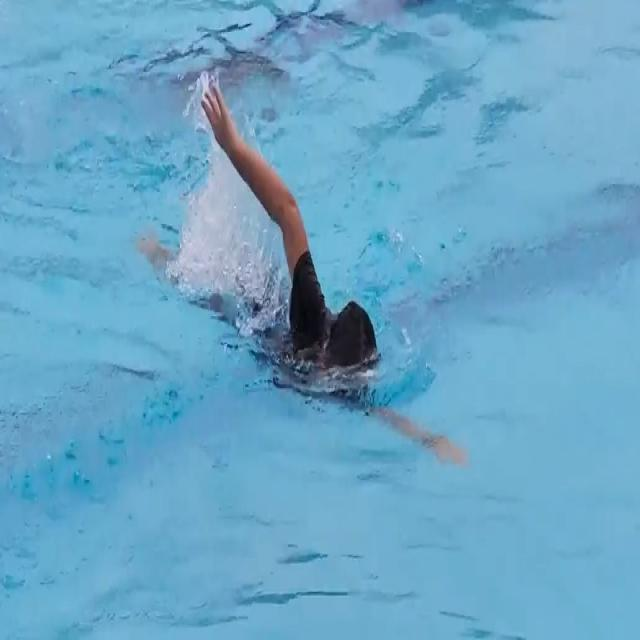Swimming: (145, 80, 470, 475)
